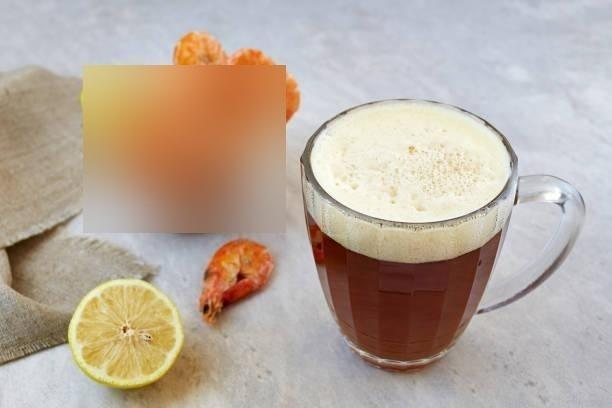glass-mug: (298, 94, 588, 374)
